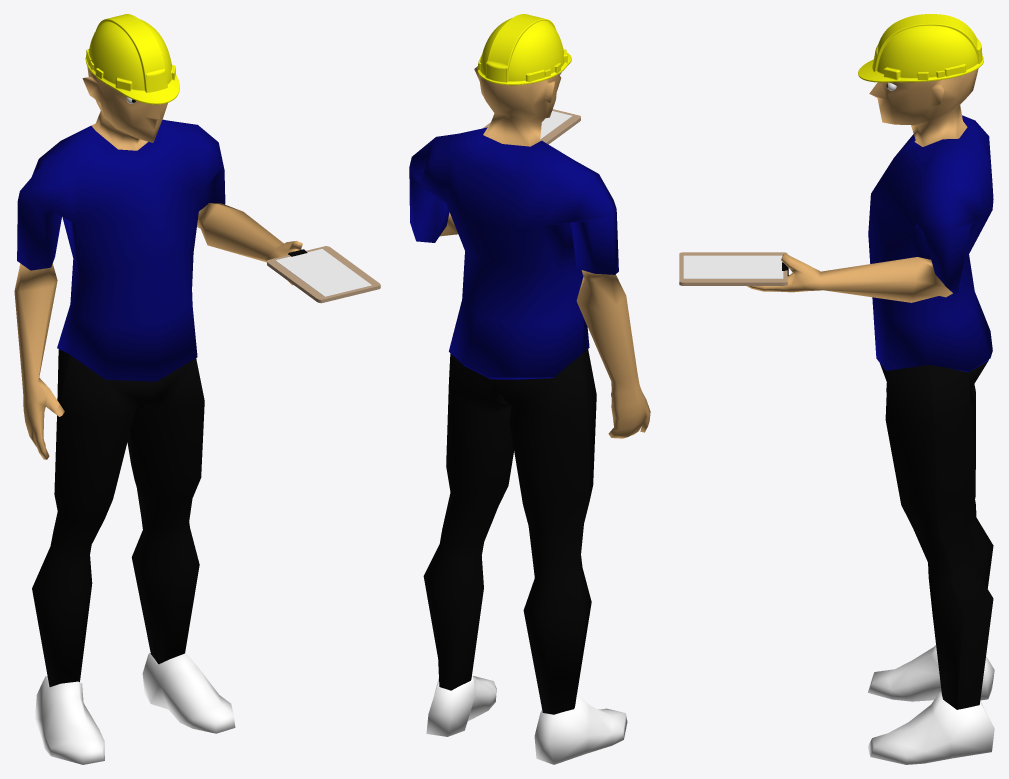
File: Johnny Sins.fbx
3 renders of one model, left to right at view 1: azimuth 30°, elevation 25°; view 2: azimuth 150°, elevation 25°; view 3: azimuth 270°, elevation 25°, orthographic.
Parts seen in each view (by area): view 1: Character, Helmet, Paper, Board; view 2: Character, Helmet, Board, Paper; view 3: Character, Helmet, Paper, Board.
Part boxes in pixels (left/top/right/bottom): Character: left=14, top=66, right=302, bottom=764; Helmet: left=85, top=14, right=179, bottom=104; Paper: left=275, top=249, right=371, bottom=296; Board: left=267, top=246, right=380, bottom=303; Character: left=409, top=66, right=650, bottom=764; Helmet: left=477, top=14, right=571, bottom=85; Board: left=482, top=109, right=580, bottom=144; Paper: left=540, top=111, right=572, bottom=139; Character: left=747, top=68, right=994, bottom=764; Helmet: left=858, top=14, right=983, bottom=82; Paper: left=683, top=255, right=783, bottom=278; Board: left=679, top=252, right=787, bottom=285.
Size of the model in its own units: 152 by 430 by 175.
